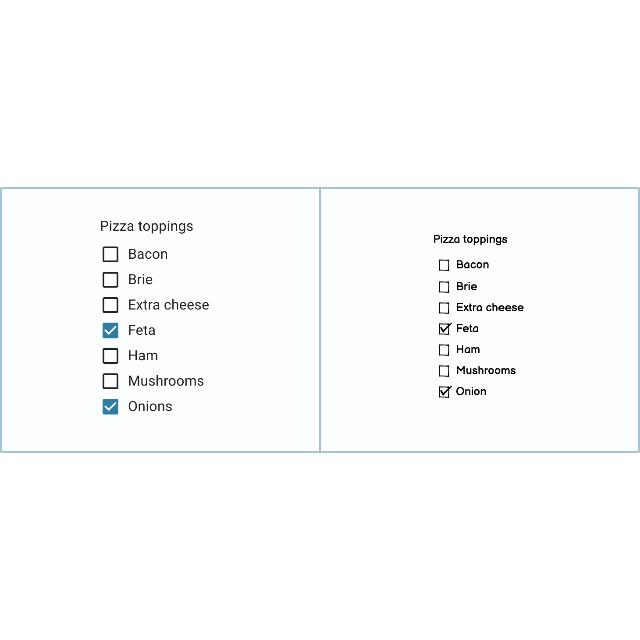QLabel: (96, 220, 196, 237), (432, 232, 512, 248), (128, 298, 210, 312), (128, 375, 205, 389), (455, 302, 525, 314), (456, 365, 516, 377), (126, 248, 168, 262), (129, 401, 173, 414), (456, 258, 490, 270), (128, 323, 156, 337), (128, 350, 158, 362), (457, 387, 488, 398), (127, 274, 153, 286), (456, 281, 476, 293), (456, 345, 480, 355), (456, 324, 478, 334)
VCard: (1, 188, 319, 454), (322, 189, 638, 453)
VCheckbox: (100, 270, 122, 290), (100, 396, 122, 416), (100, 244, 120, 264), (100, 294, 120, 314), (102, 321, 120, 339), (102, 347, 120, 365), (102, 373, 118, 391), (436, 363, 452, 381), (437, 384, 453, 402), (436, 322, 452, 336), (437, 258, 451, 272), (438, 344, 452, 358), (436, 302, 452, 314), (438, 280, 450, 294)
